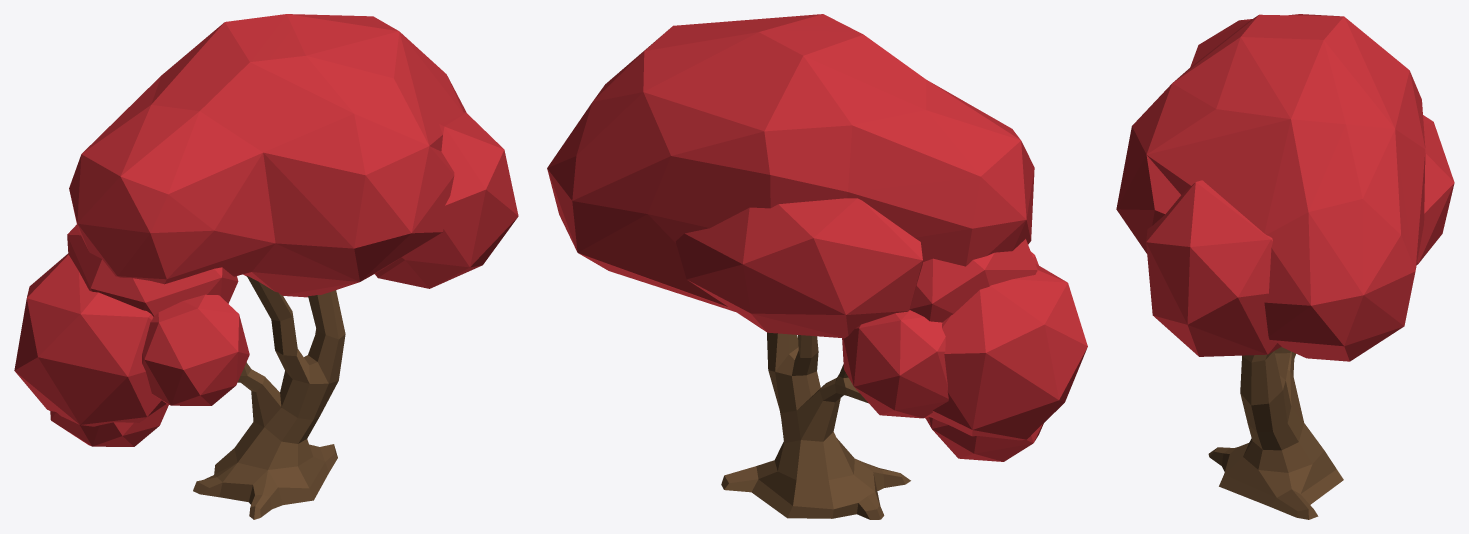
The model's file is japan_tree-bonsai.fbx.
The picture shows the model from 3 angles, left to right: view 1: azimuth 30°, elevation 25°; view 2: azimuth 150°, elevation 25°; view 3: azimuth 270°, elevation 25°; orthographic projection. The views are drawn at different scales.
Parts seen in each view (by area): view 1: japan_tree_bonsai; view 2: japan_tree_bonsai; view 3: japan_tree_bonsai.
Part boxes in pixels (x1,y1,x2,y2): japan_tree_bonsai: (14,14,518,519); japan_tree_bonsai: (547,14,1087,519); japan_tree_bonsai: (1116,14,1454,519).
Size of the model in its own units: 200 by 181 by 121.
